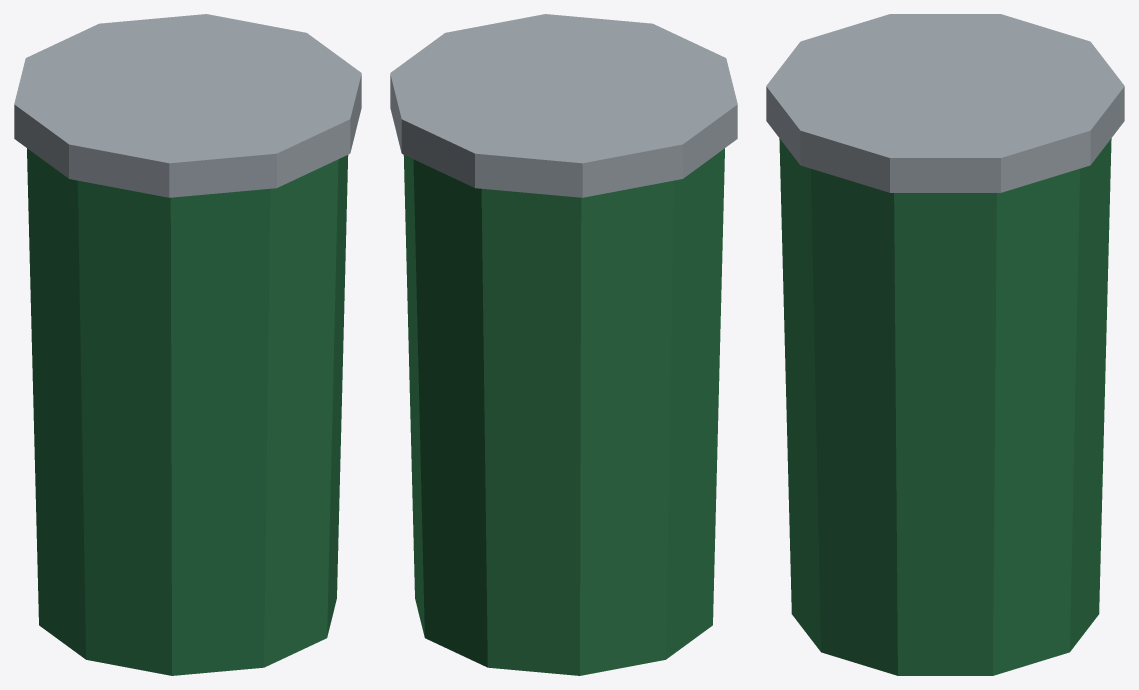
The model's file is TrashBin.glb.
3 renders of one model, left to right at view 1: azimuth 30°, elevation 25°; view 2: azimuth 150°, elevation 25°; view 3: azimuth 270°, elevation 25°, orthographic.
Visible parts, largest first — view 1: TrashBin_SignGreen, TrashBin_Metal; view 2: TrashBin_SignGreen, TrashBin_Metal; view 3: TrashBin_SignGreen, TrashBin_Metal.
Boxes of the visible parts, bbox=[...] form: TrashBin_SignGreen: bbox=[27, 148, 348, 675]; TrashBin_Metal: bbox=[14, 14, 361, 197]; TrashBin_SignGreen: bbox=[403, 148, 724, 675]; TrashBin_Metal: bbox=[390, 14, 737, 197]; TrashBin_SignGreen: bbox=[779, 138, 1111, 675]; TrashBin_Metal: bbox=[766, 14, 1124, 192].
Size of the model in its own units: 0.5326 by 0.91 by 0.56.
